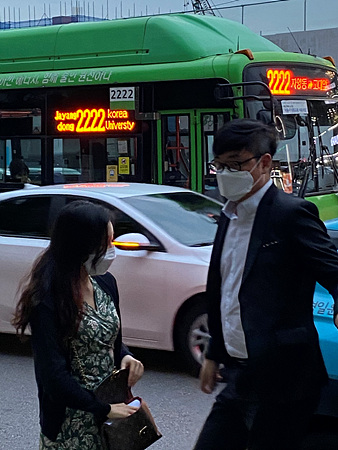entrance: (157, 104, 219, 196)
